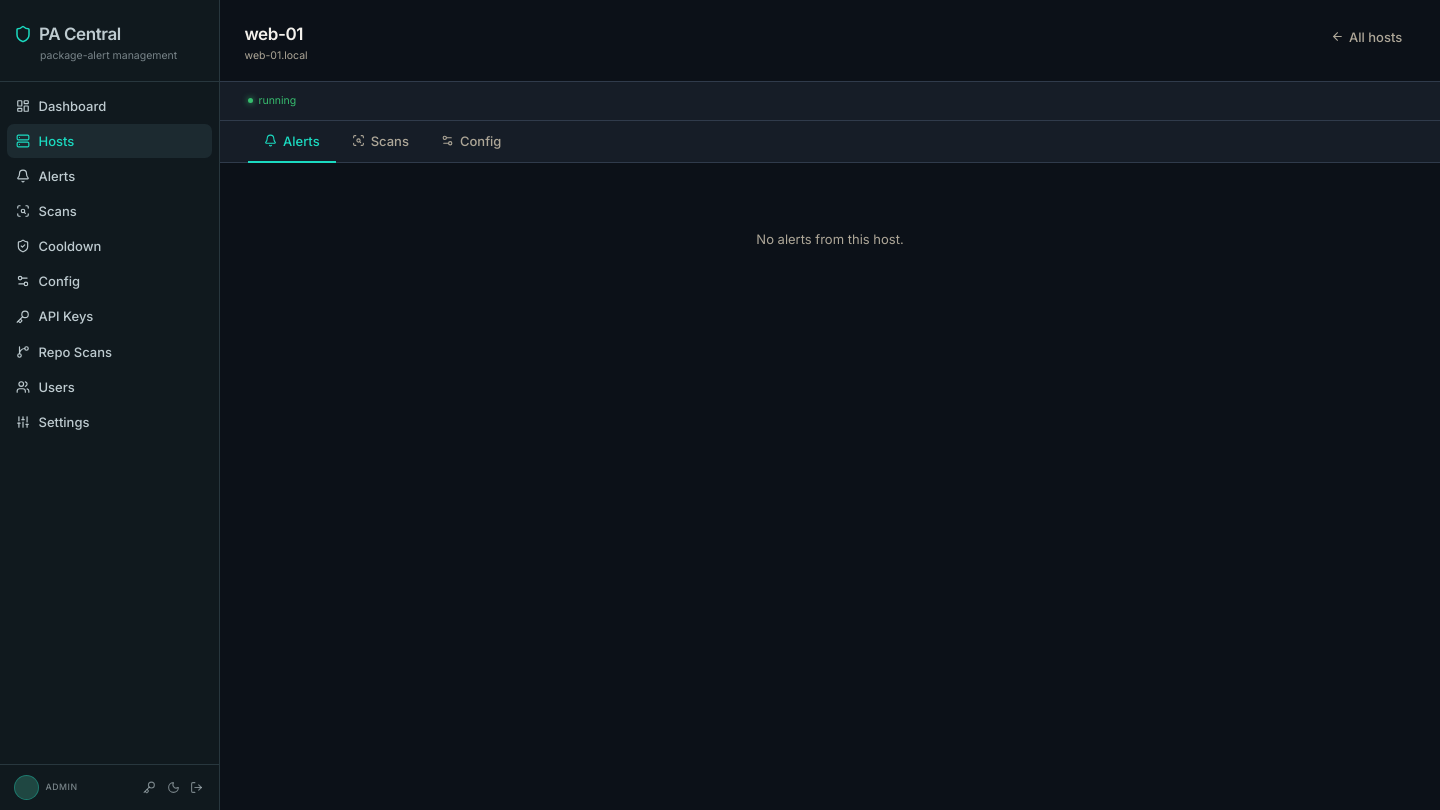
Test case: host scan — scan checks › shows a yanked chip and lists the yanked versions when expanded
Click the tab "Scans" at coordinates (380, 142), box 336,121 -> 425,163
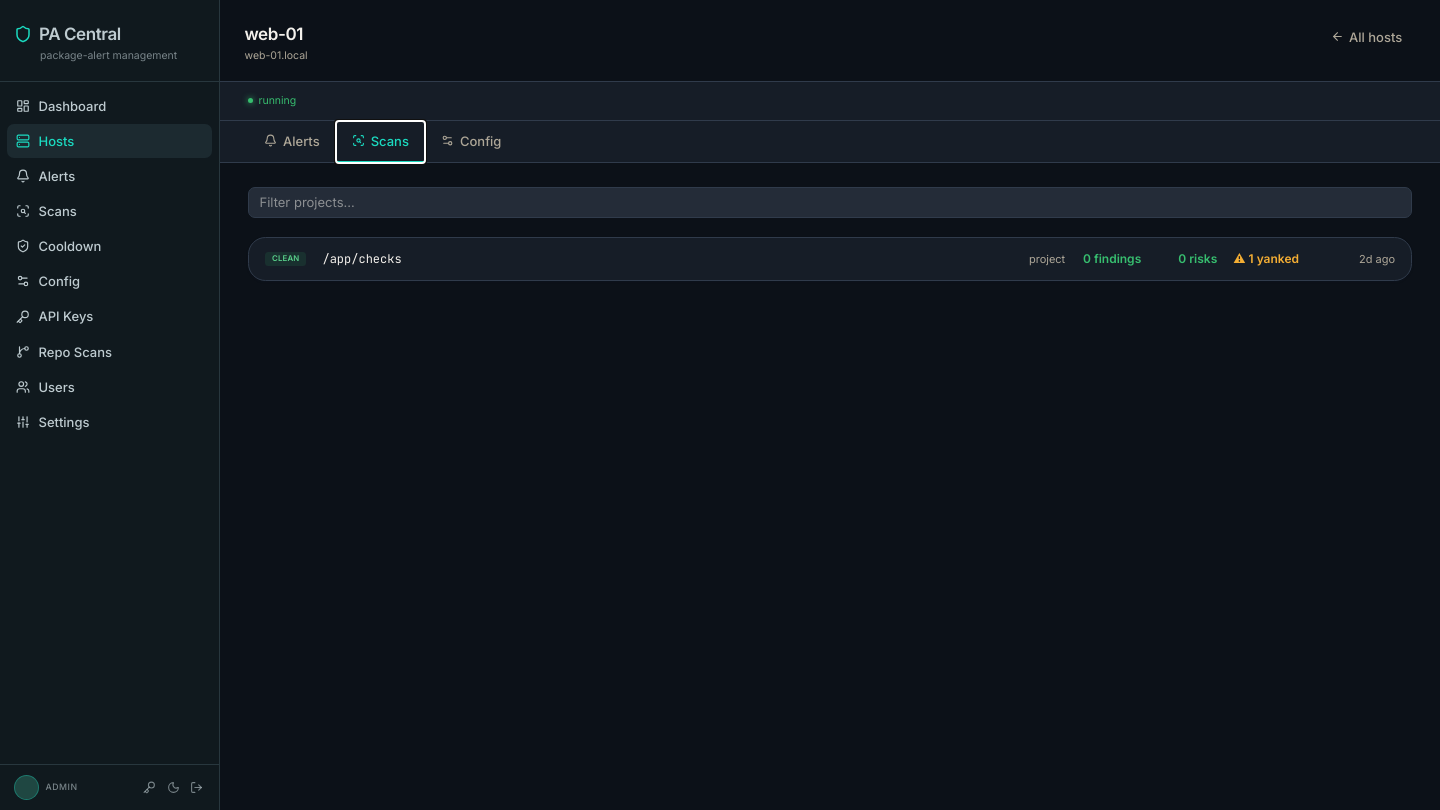
expect the text "/app/checks" is shown: met, box 322,251 -> 402,267
expect the button "⚠ 1 yanked" is shown: met
Click the button "⚠ 1 yanked" at coordinates (286, 259), box 265,251 -> 1395,267
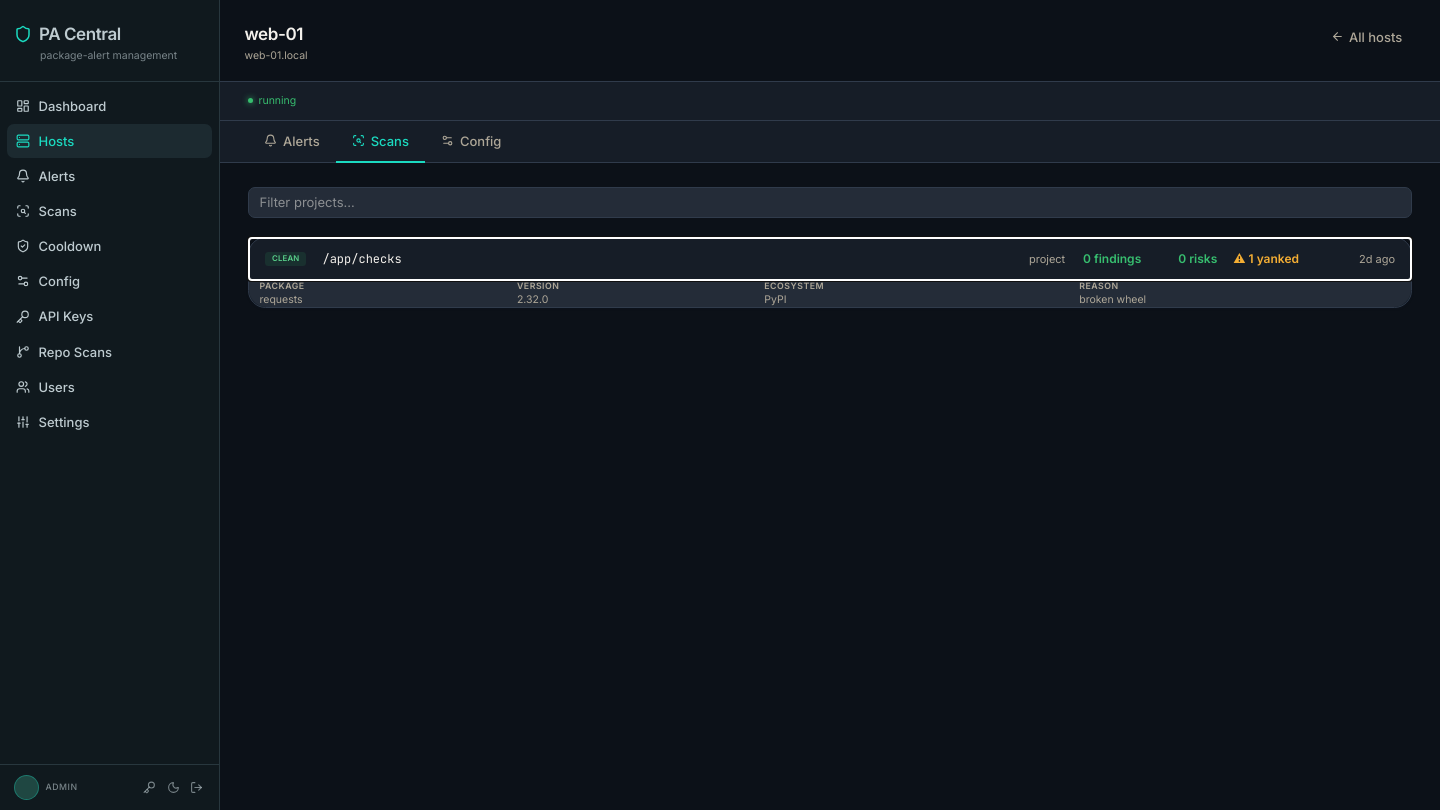
expect the text "requests" is shown: met, box 249,293 -> 506,307
expect the text "2.32.0" is shown: met, box 506,293 -> 754,307
expect the text "broken wheel" is shown: met, box 1069,293 -> 1411,307
